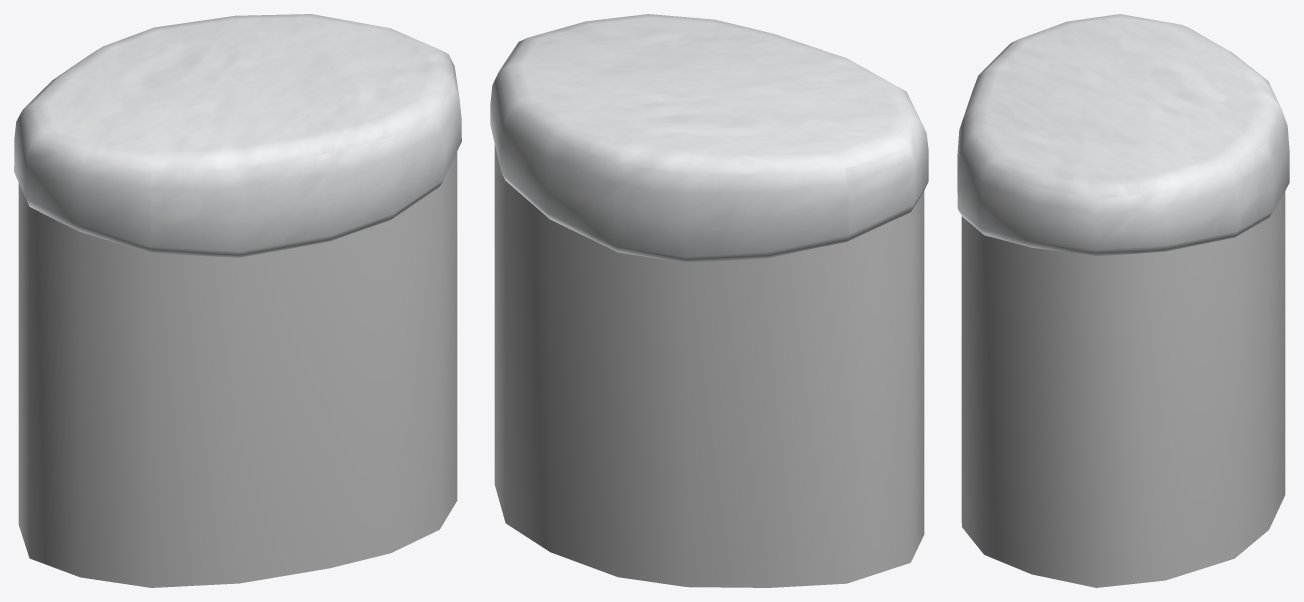
Rendered from Cliff02.fbx.
3 renders of one model, left to right at view 1: azimuth 30°, elevation 25°; view 2: azimuth 150°, elevation 25°; view 3: azimuth 270°, elevation 25°, orthographic. The views are drawn at different scales.
Parts seen in each view (by area): view 1: Cliff02; view 2: Cliff02; view 3: Cliff02.
Part boxes in pixels (<box>): Cliff02: <box>14,14,461,587</box>; Cliff02: <box>490,14,928,587</box>; Cliff02: <box>957,14,1289,587</box>.
Size of the model in its own units: 411 by 398 by 303.
